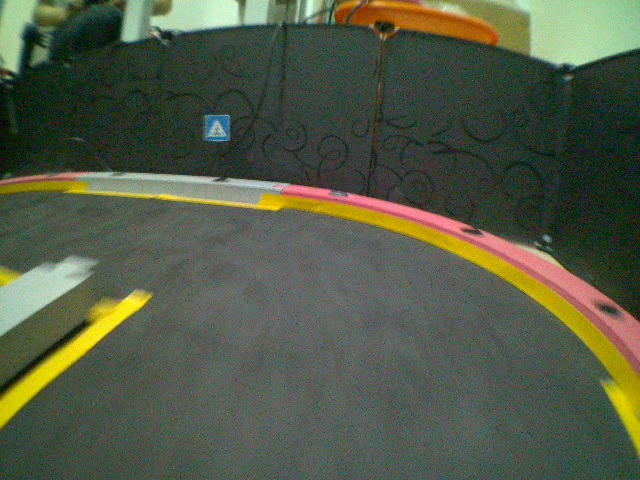crossing: (203, 112, 230, 142)
